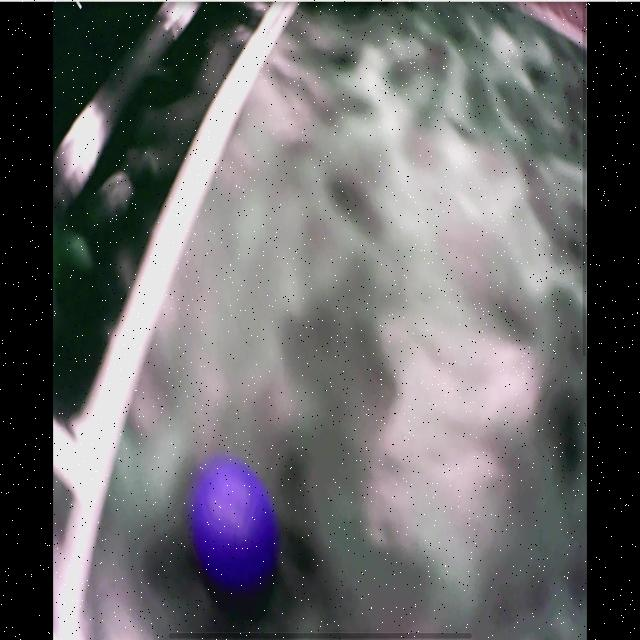ball: (193, 456, 276, 600)
